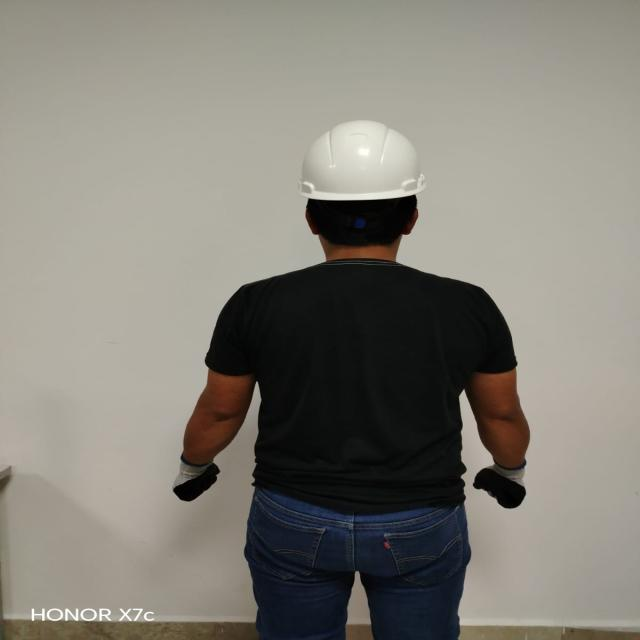gloves: (474, 462, 526, 509), (172, 457, 220, 502)
helmet: (298, 120, 426, 202)
